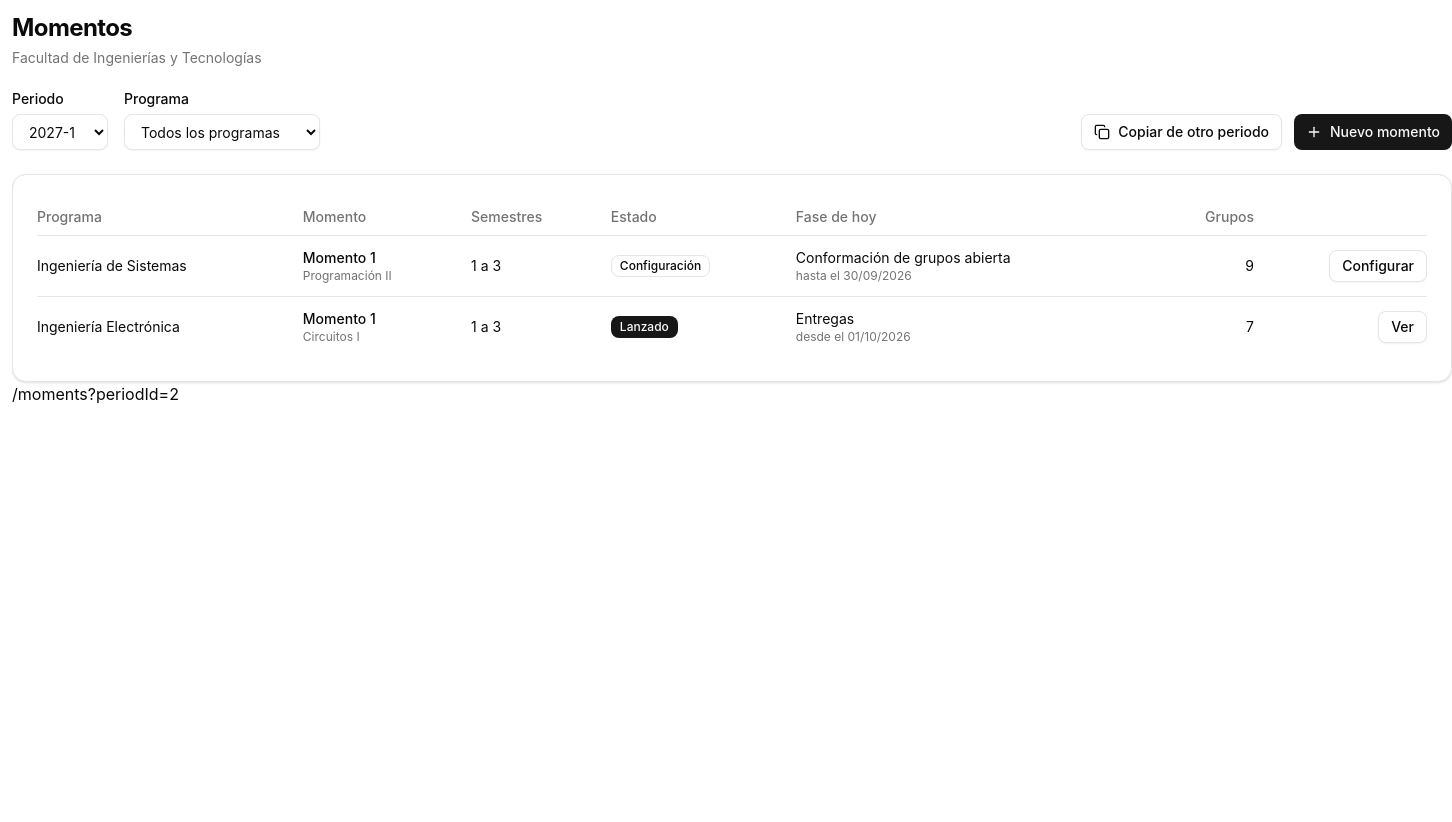
MomentsPage › shows the message of the API when nothing can be copied
What coordinates should you click on to do the following:
click the button "Copiar de otro periodo"
I would click on:
 (1182, 132)
Its box is [1081,114,1282,150].
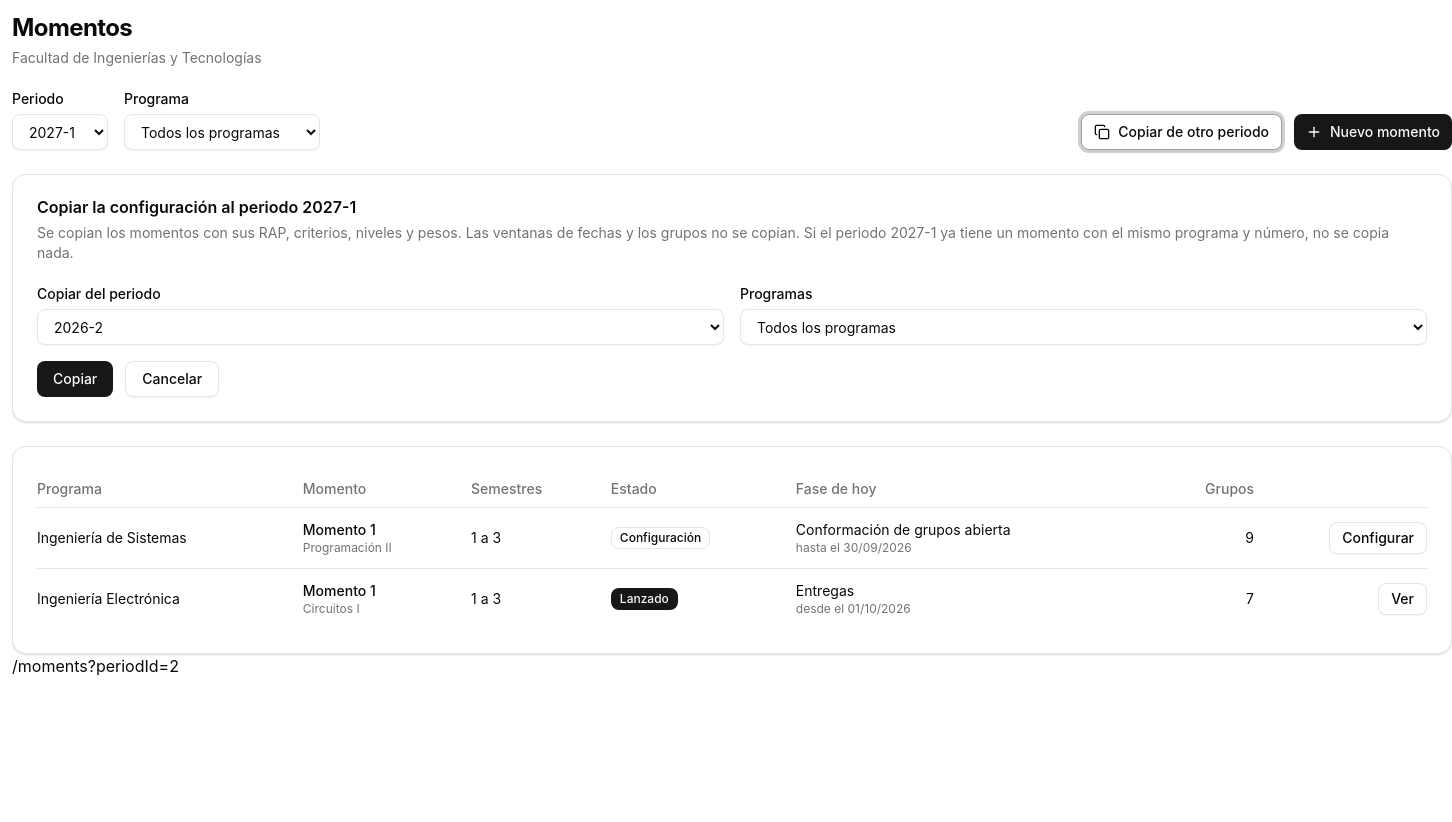
What coordinates should you click on to do the following:
click the button "Copiar"
I would click on:
 (75, 379)
Its box is [37,361,113,397].
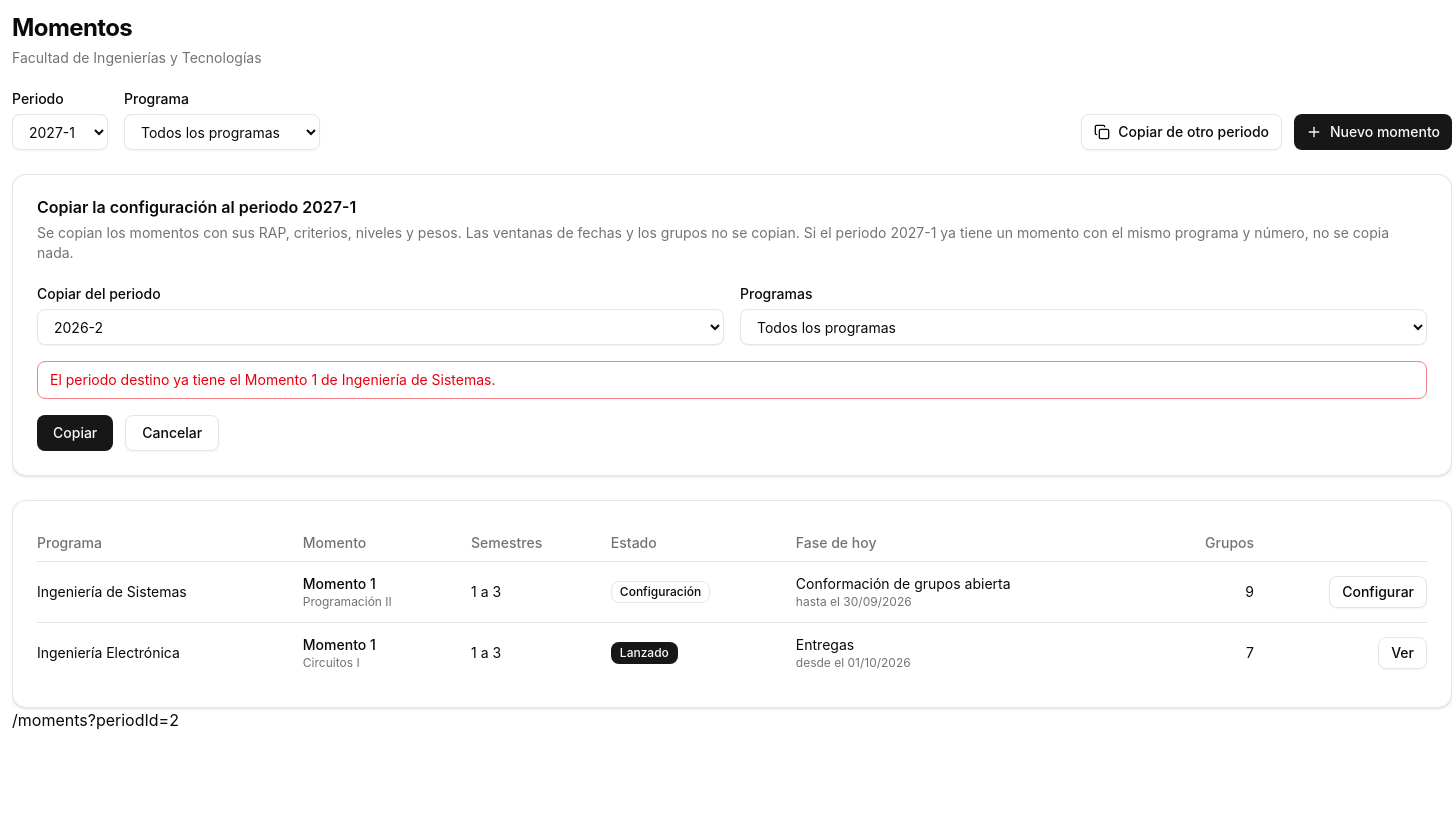
Result: the message shows "ya tiene el Momento 1" at [50,371,496,388]
